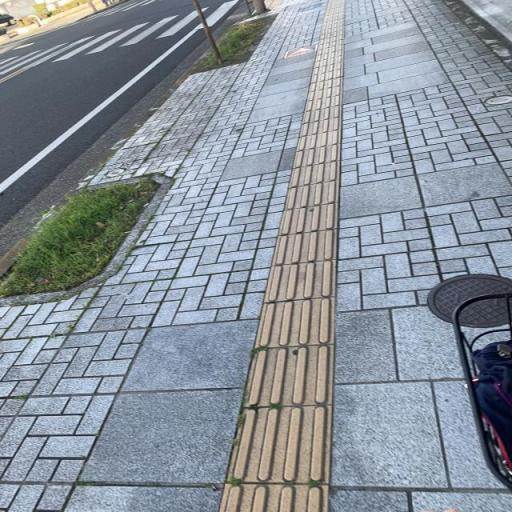line: (225, 406, 334, 484), (242, 344, 334, 408), (255, 297, 336, 347), (263, 261, 338, 301), (270, 228, 338, 266), (279, 200, 339, 236), (285, 180, 336, 208)
